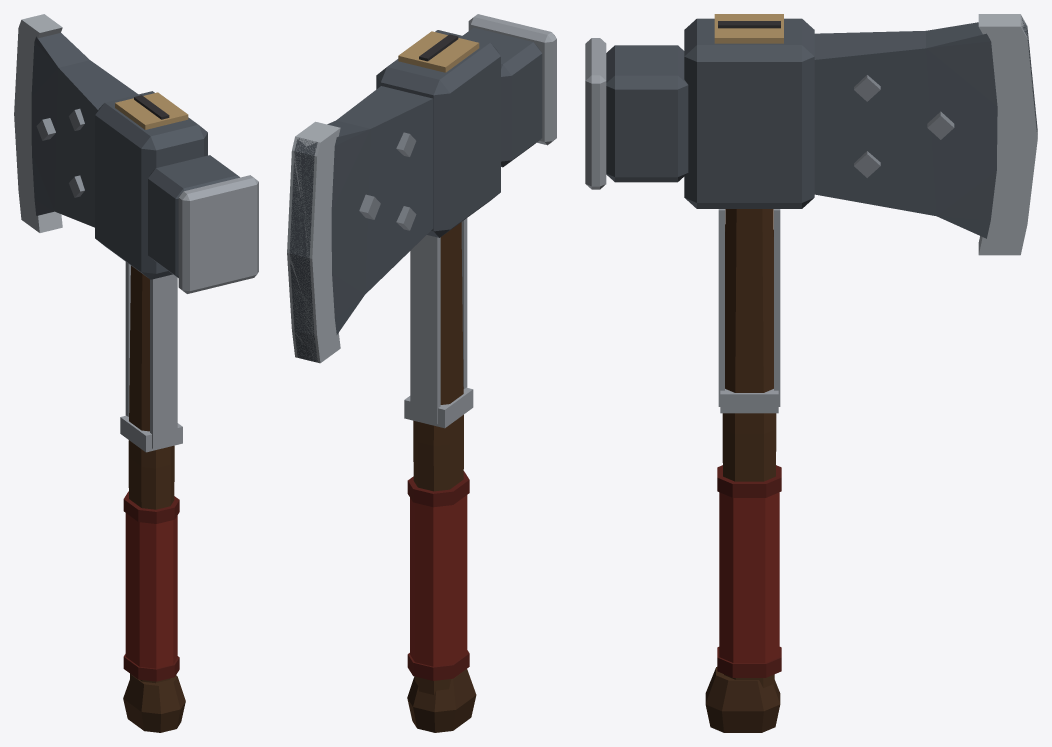
The model's file is HardenedAxe.glb.
3 renders of one model, left to right at view 1: azimuth 30°, elevation 25°; view 2: azimuth 150°, elevation 25°; view 3: azimuth 270°, elevation 25°, orthographic. The views are drawn at different scales.
Parts seen in each view (by area): view 1: Head, Handle; view 2: Head, Handle; view 3: Head, Handle.
Part boxes in pixels (x1,y1,x2,y2): Head: (14, 14, 258, 448); Handle: (115, 92, 188, 732); Head: (287, 14, 556, 424); Handle: (398, 31, 479, 732); Head: (585, 14, 1037, 406); Handle: (705, 14, 783, 732).
Bounding box in the file's own units: 0.5088 × 3.91 × 2.28.
